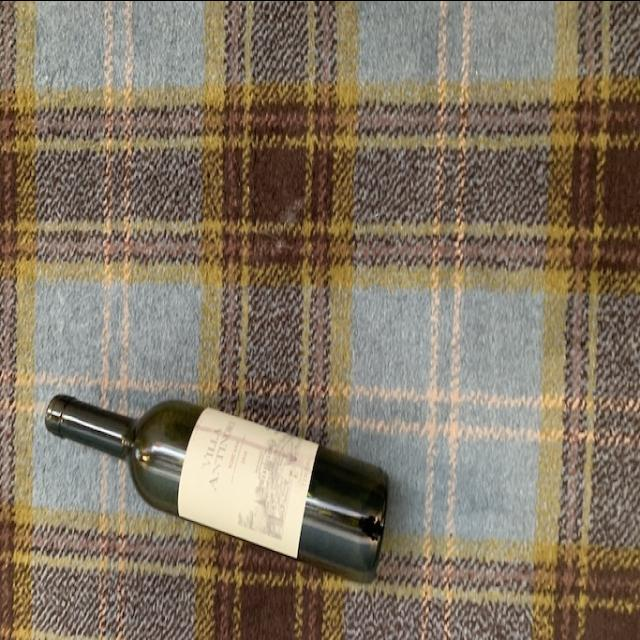litter: (43, 386, 393, 584)
